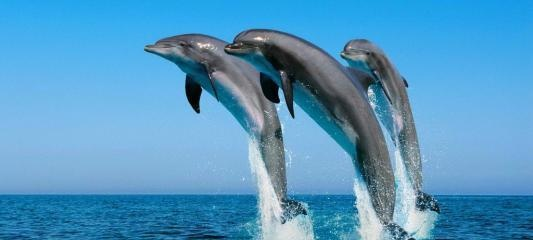fish: (223, 22, 411, 239), (143, 32, 312, 223), (337, 38, 442, 213)
